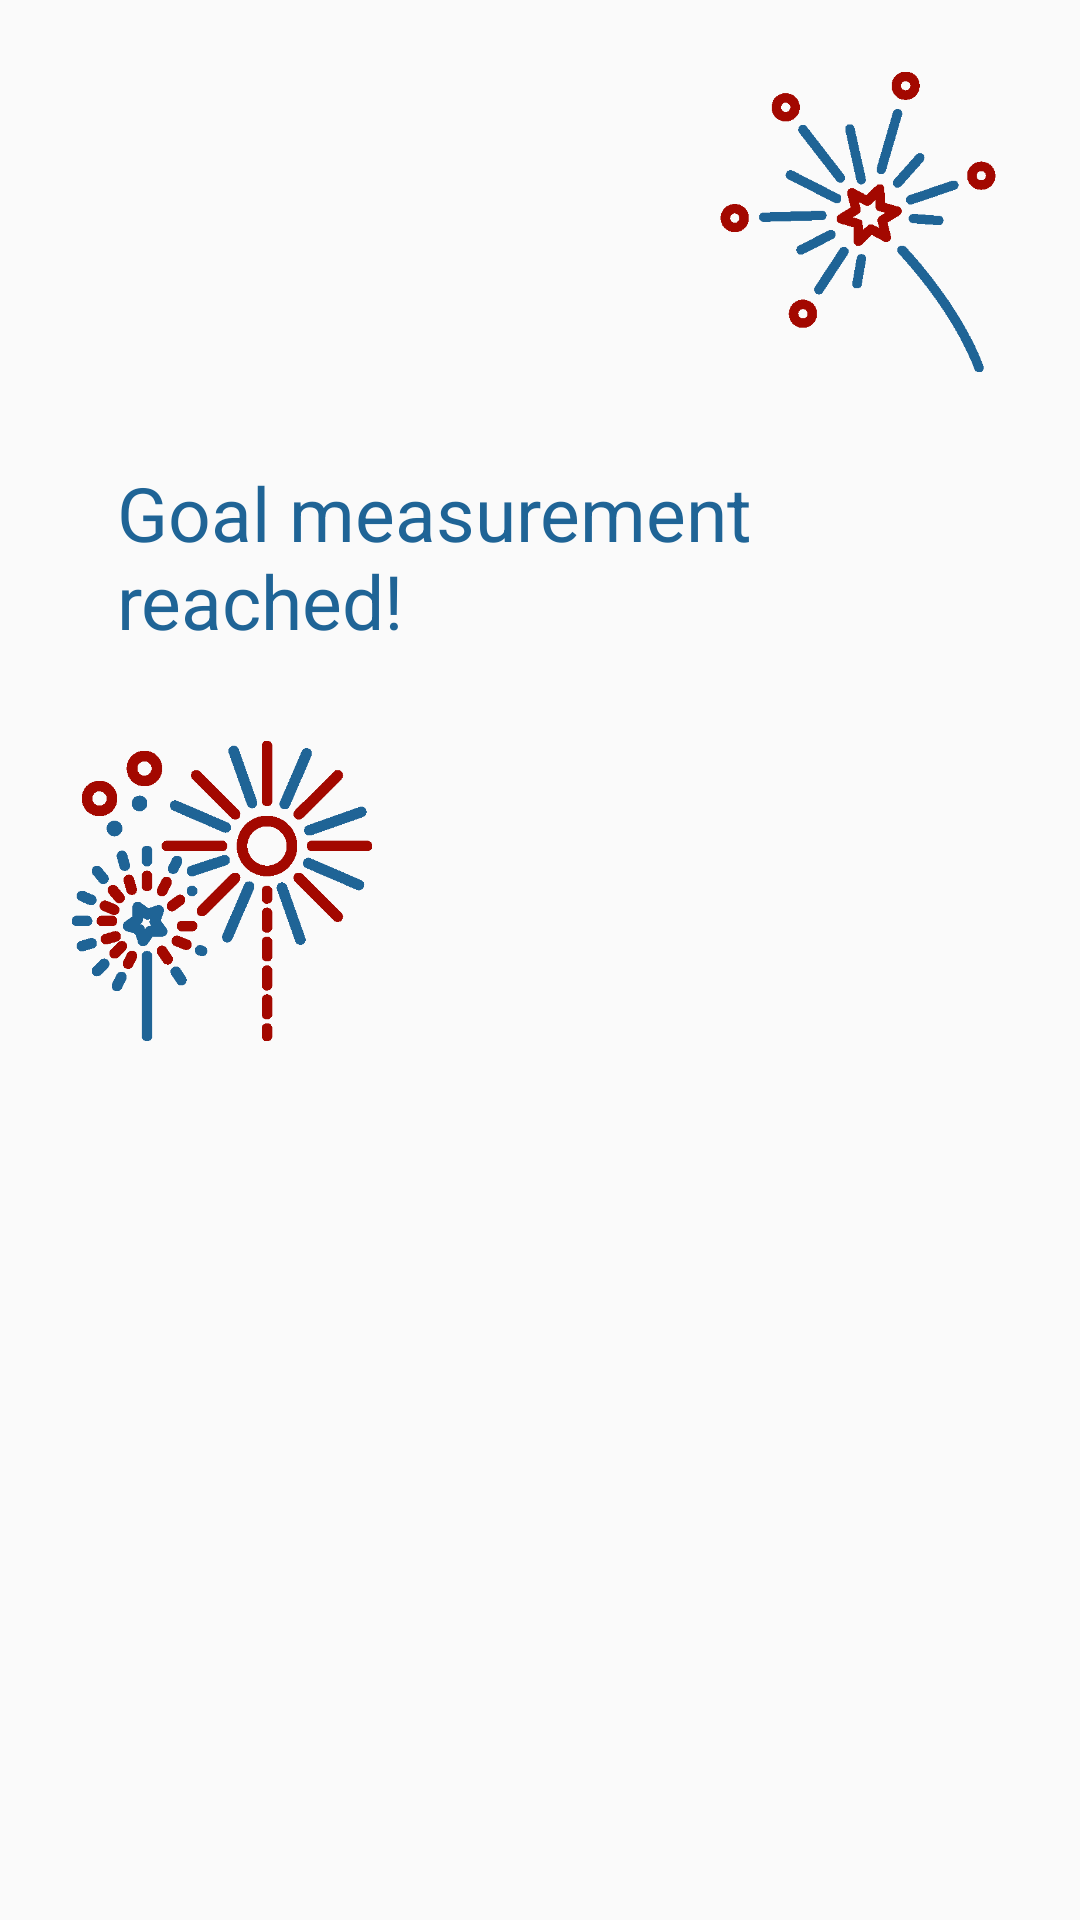

Icons on this 1080 x 1920 Android screen, each with the point to tap as point (x, y):
fireworks: point (858, 222), point (222, 891)
